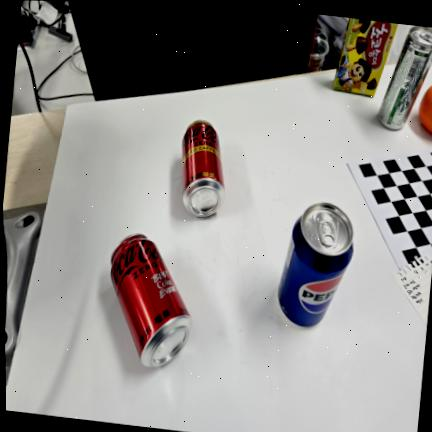can_coke_decaf: (182, 121, 225, 216)
can_coke_zero: (110, 234, 192, 367)
can_pepsi: (278, 202, 353, 327)
